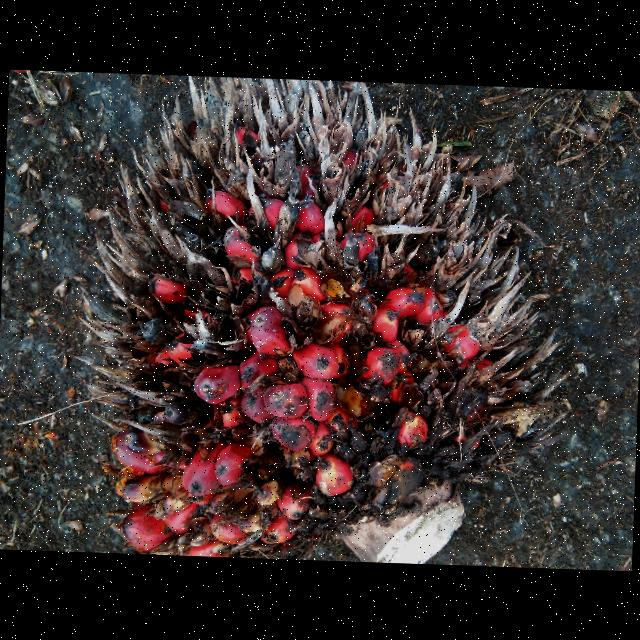Overripe: (93, 137, 561, 559)
